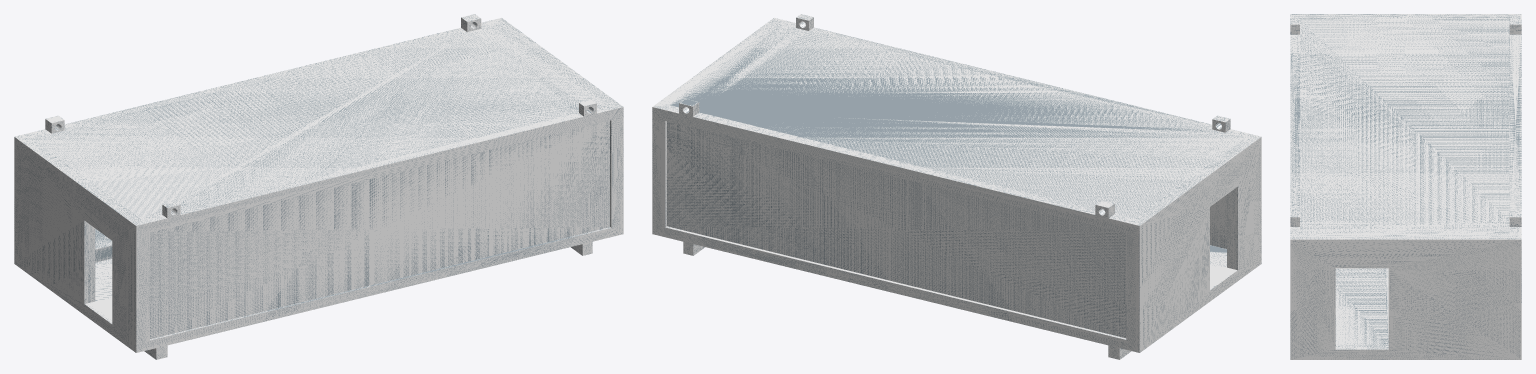
File: Prefab sleeping unit.fbx
3 views of the same model, side by side, from view 1: azimuth 30°, elevation 25°; view 2: azimuth 150°, elevation 25°; view 3: azimuth 270°, elevation 25° (orthographic). The views are drawn at different scales.
Visible parts, largest first — view 1: Model; view 2: Model; view 3: Model.
Part boxes in pixels (x1=…): Model: x1=14, y1=14, x2=623, y2=359; Model: x1=652, y1=14, x2=1261, y2=359; Model: x1=1290, y1=14, x2=1521, y2=359.
Size of the model in its own units: 13.41 by 3.92 by 5.81.
